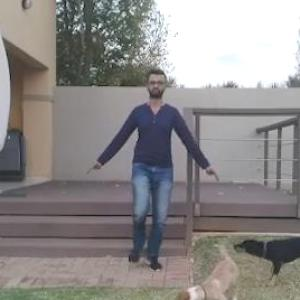land: (104, 79, 196, 251)
